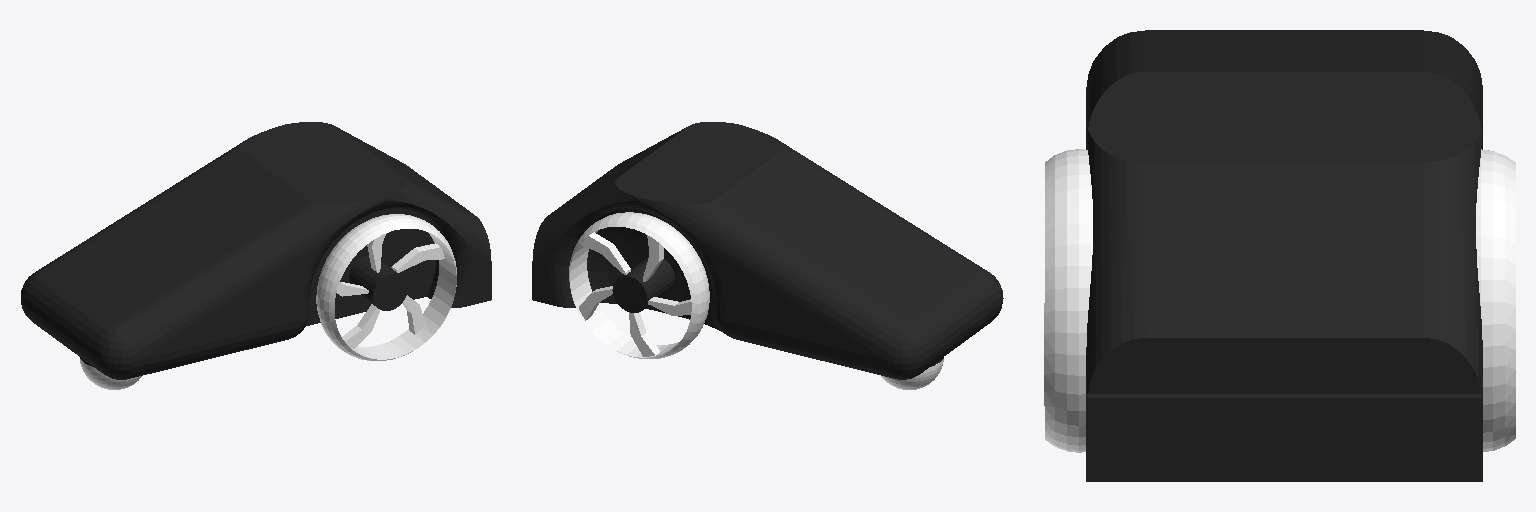
The robot description file, URDF, robot "maze_bot":
<robot name="maze_bot">

    <link name="base_footprint"/>
    <link name="base">
      <inertial>
        <mass value="2" />
        <origin xyz="0 0 0.1" rpy="0 0 0" />
        <inertia ixx="0.00355" iyy="0.01265" izz="0.013832" ixy="0.0" ixz="0.0" iyz="0.0" />
      </inertial>

      <visual>
        <geometry>
          <mesh filename="package://maze_bot/meshes/base_link.stl" scale='10 10 10'/>
          <!-- <mesh filename="$(find maze_bot)/meshes/base_link.stl"/> -->
          <!-- <mesh filename="file:/path_planning_ws/install/maze_bot/share/maze_bot/meshes/base_link.stl"/> -->
          <!-- <box size="0.1 0.1 0.1"/> -->
        </geometry>
        <material name="gray">
          <color rgba=".2 .2 .2 1" />
        </material>
      </visual>
  
      <collision>
        <geometry>
          <mesh filename="package://maze_bot/meshes/base_link.stl" scale='10 10 10'/>
      </geometry>
        <contact_coefficients mu="0" kp="1000.0" kd="1.0"/>
      </collision>


    </link>
    <joint name="base_joint" type="fixed">
      <parent link="base_footprint"/>
      <child link="base"/>
      <origin rpy="0 0 0" xyz="0 0 0.0"/>
      <!-- <origin rpy="0 0 0" xyz="0 0 0.0328"/> -->
    </joint>


    <link name="wheel_right">
      <inertial>
        <mass value="0.75"/>
        <inertia ixx="0.001444223" iyy="0.00280875" izz="0.00144423" ixy="0.0" ixz="0.0" iyz="0.0"/>
        <origin/>
      </inertial>
    
        <visual>
          <geometry>
            <mesh filename="package://maze_bot/meshes/wheel_r.stl" scale='10 10 10'/>
          </geometry>

          <material name="white">
            <color rgba="1 1 1 1"/>
          </material>
        </visual>
    
        <collision>
          <geometry>
            <mesh filename="package://maze_bot/meshes/wheel_r.stl" scale='10 10 10'/>
          </geometry>
          <contact_coefficients mu="0" kp="1000.0" kd="1.0"/>
        </collision>

    </link>
  
    <joint name="wheel_right_joint" type="continuous">
      <origin xyz="0.09 0.085 0.04  " rpy="0 0.0 0.0"/>
      <!-- <origin xyz="0.0091 0.0105 0.0041" rpy="0 0.0 0.0"/> -->
      <!-- <origin xyz="0.091371 0.08328 0.036801" rpy="0 0.0 0.0"/> -->
      <parent link="base"/>
      <child link="wheel_right"/>
      <axis xyz="0.0 -1.0 0"/>
    </joint>
  
    <link name="wheel_left">
      <inertial>
        <mass value="0.75"/>
        <inertia ixx="0.001444223" iyy="0.00280875" izz="0.001444223" ixy="0.0" ixz="0.0" iyz="0.0" />
        <origin/>
      </inertial>
  
      <visual>
        
        <geometry>
          <mesh filename="package://maze_bot/meshes/wheel_l.stl" scale='10 10 10'/>
        </geometry>
        
        <material name="white">
          <color rgba="1 1 1 1"/>
        </material>
      </visual>
  
      <collision>
        <geometry>
          <mesh filename="package://maze_bot/meshes/wheel_l.stl" scale='10 10 10'/>
        </geometry>
        <contact_coefficients mu="0" kp="1000.0" kd="1.0"/>
      </collision>
    </link>
  
    <joint name="wheel_left_joint" type="continuous">
      <origin xyz="0.09 -0.1 0.04" rpy="0 0.0 3.14"/>
      <!-- <origin xyz="0.0091 -0.0105 0.0041" rpy="0 0.0 3.14"/> -->
      <!-- <origin xyz="0.091371 -0.08328 0.036801" rpy="0 0.0 3.14"/> -->
      <parent link="base"/>
      <child link="wheel_left"/>
      <axis xyz="0.0 1 0"/>
  
    </joint>
  
  
    <link name="caster">

      <inertial>
        <mass value="0.75"/>
        <inertia ixx="0.0001295" iyy="0.0001295" izz="0.000199322" ixy="0.0" ixz="0.0" iyz="0.0" />
        <origin/>
      </inertial>
  
      <visual>
        <geometry>
          <mesh filename="package://maze_bot/meshes/front_caster.stl" scale='10 10 10'/>
        </geometry>
        <material name="white">
          <color rgba="1 1 1 1"/>
        </material>
      </visual>
  
      <collision>
        <geometry>
          <mesh filename="package://maze_bot/meshes/front_caster.stl" scale='10 10 10'/>
        </geometry>
        <contact_coefficients mu="0" kp="1000.0" kd="1.0"/>
      </collision>
    </link>

    <joint name="caster_joint" type="continuous">
      <origin xyz="-0.14 -0.007 -0.03" rpy="0.0 0.0 0.0"/>
      <!-- <origin xyz="-0.0138 -0.0008 -0.003" rpy="0.0 0.0 0.0"/> -->
      <!-- <origin xyz="-0.139056 -0.00699 -0.018736" rpy="0.0 0.0 0.0"/> -->
      <axis xyz="0 0 1" />
      <parent link="base"/>
      <child link="caster"/>
    </joint>  


  <!-- <link name="camera_link">
  </link>

  <joint name="camera_joint" type="fixed">
    <origin xyz="-0.16 0.0 0.08" rpy="0 0.0 3.14"/>
    <parent link="base"/>
    <child link="camera_link"/>
    <axis xyz="0.0 0.0 1.0"/>
  
  </joint> -->


    <!-- <gazebo reference="camera_link">
        <sensor type="camera" name="Botcamera">
          <update_rate>30.0</update_rate>
          <camera name="head">
            <horizontal_fov>1.3962634</horizontal_fov>
            <image>
              <width>800</width>
              <height>800</height>
              <format>R8G8B8</format>
            </image>
            <clip>
              <near>0.02</near>
              <far>300</far>
            </clip>
            <noise>
              <type>gaussian</type>
              <mean>0.0</mean>
              <stddev>0.007</stddev>
            </noise>
          </camera>
          <plugin name="camera_controller" filename="libgazebo_ros_camera.so">
            <alwaysOn>true</alwaysOn>
            <updateRate>0.0</updateRate>
            <cameraName>/Botcamera</cameraName>
            <imageTopicName>image_raw</imageTopicName>
            <cameraInfoTopicName>camera_info</cameraInfoTopicName>
            <frameName>camera_link</frameName>
            <hackBaseline>0.07</hackBaseline>
          </plugin>
        </sensor>
        <material>Gazebo/Blue</material>
      </gazebo> -->

    <gazebo>
      <plugin filename="libgazebo_ros_diff_drive.so" name="gazebo_base_controller">
        <odometry_frame>odom</odometry_frame>
        <commandTopic>cmd_vel</commandTopic>
        <publish_odom>true</publish_odom>
        <publish_odom_tf>true</publish_odom_tf>
        <update_rate>15.0</update_rate>
        <left_joint>wheel_left_joint</left_joint>
        <right_joint>wheel_right_joint</right_joint>
        <wheel_separation>0.8</wheel_separation>
        <wheel_diameter>0.3</wheel_diameter>
        <max_wheel_acceleration>0.7</max_wheel_acceleration>
        <robotBaseFrame>base</robotBaseFrame>
  
      </plugin>
    </gazebo>


  <gazebo reference="base">
      <material>Gazebo/Black</material>
    </gazebo>
    <gazebo reference="caster">
      <material>Gazebo/White</material>
    </gazebo>
    
    <gazebo reference="wheel_right">
      <material>Gazebo/Orange</material>
    </gazebo>
    <gazebo reference="wheel_left">
      <material>Gazebo/Orange</material>
    </gazebo>  

  </robot>

--- Facts derived from the render (not from the file) ---
3 views of the same robot in one strip: view 1: azimuth 30°, elevation 25°; view 2: azimuth 150°, elevation 25°; view 3: azimuth 270°, elevation 25° (orthographic).
Model maze_bot with 5 links and 4 joints (3 continuous, 1 fixed), rooted at base_footprint, posed every joint at zero.
Visible links, largest first — view 1: base, wheel_left, caster; view 2: base, wheel_right, caster; view 3: base, wheel_left, wheel_right.
Boxes of the visible links, left/top/right/bottom form: base: left=21, top=122, right=491, bottom=379; wheel_left: left=316, top=214, right=456, bottom=360; caster: left=80, top=359, right=141, bottom=389; base: left=532, top=122, right=1003, bottom=379; wheel_right: left=569, top=212, right=709, bottom=358; caster: left=881, top=359, right=943, bottom=389; base: left=1086, top=30, right=1482, bottom=481; wheel_left: left=1044, top=149, right=1092, bottom=452; wheel_right: left=1476, top=149, right=1515, bottom=451.
Size in the robot's own frame: 0.3984 by 0.2171 by 0.1718 metres.
Meshes: 4 distinct files referenced, 4 mesh visuals loaded (4 binary STL).
